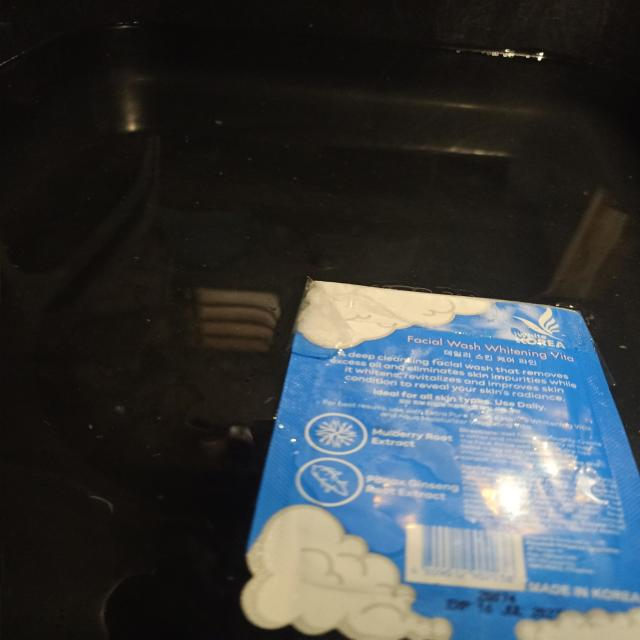Plastic Wrapper: (241, 280, 640, 640)
